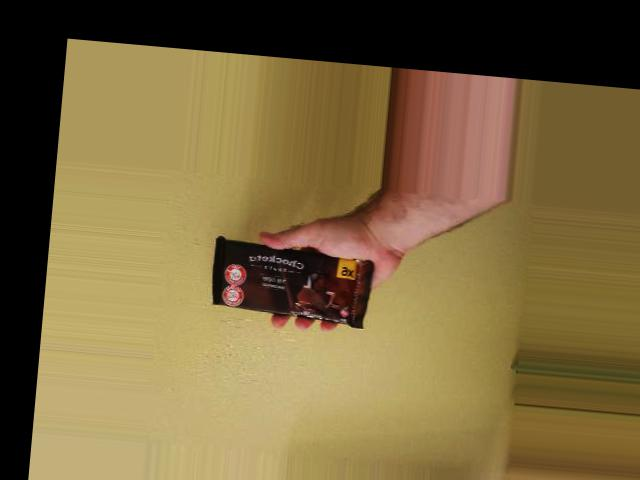chocolate: (210, 233, 375, 329)
